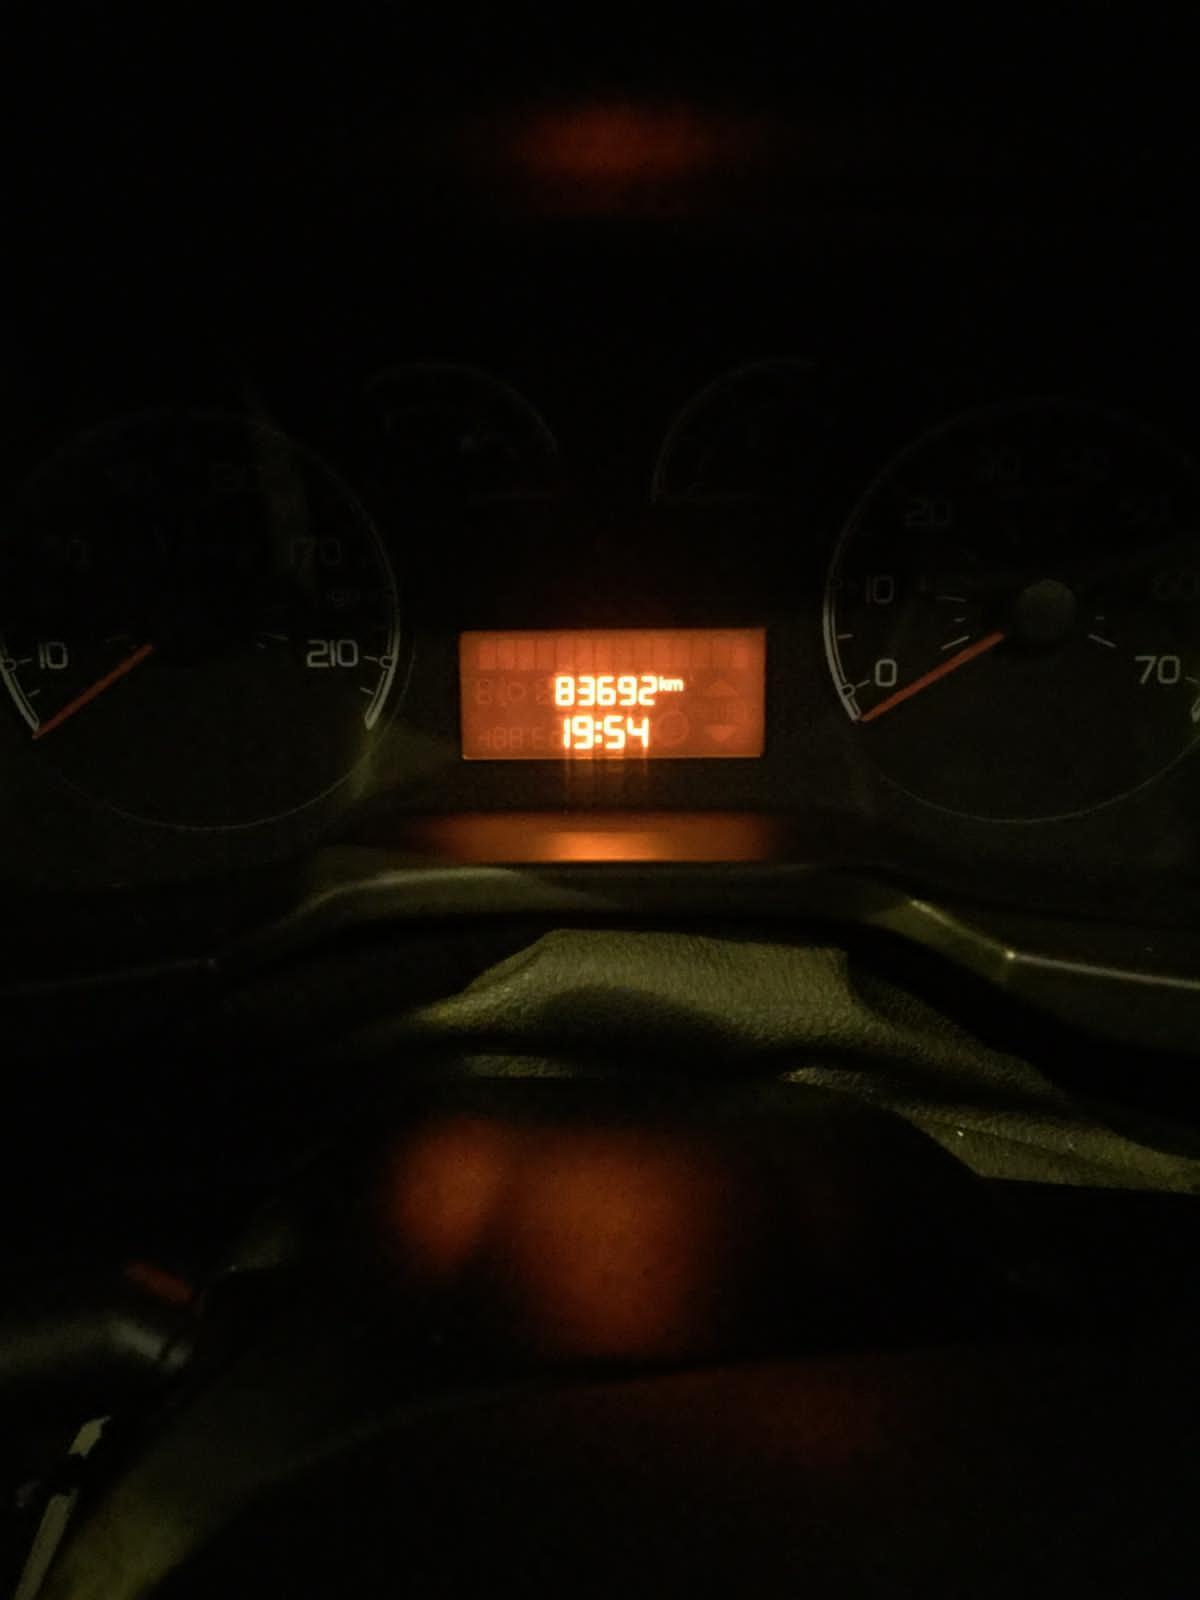1: (561, 716, 572, 750)
2: (638, 675, 658, 706)
3: (576, 675, 596, 706)
4: (626, 716, 649, 748)
5: (603, 714, 625, 750)
6: (595, 674, 616, 706)
8: (555, 677, 575, 706)
9: (572, 714, 594, 750), (616, 675, 637, 706)
X: (594, 721, 603, 745), (669, 678, 684, 692), (658, 675, 669, 690)
odometer: (453, 624, 770, 763)
